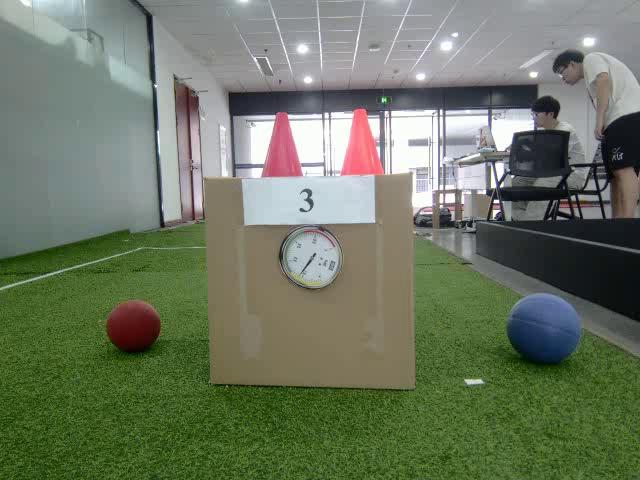3: (300, 188, 314, 213)
Dashboard: (279, 225, 343, 290)
blue_ball: (507, 294, 582, 365)
orange_barrel: (340, 110, 381, 175)
red_ball: (105, 301, 162, 352)
red_barrel: (261, 111, 305, 177)
ssi: (328, 260, 337, 271)
